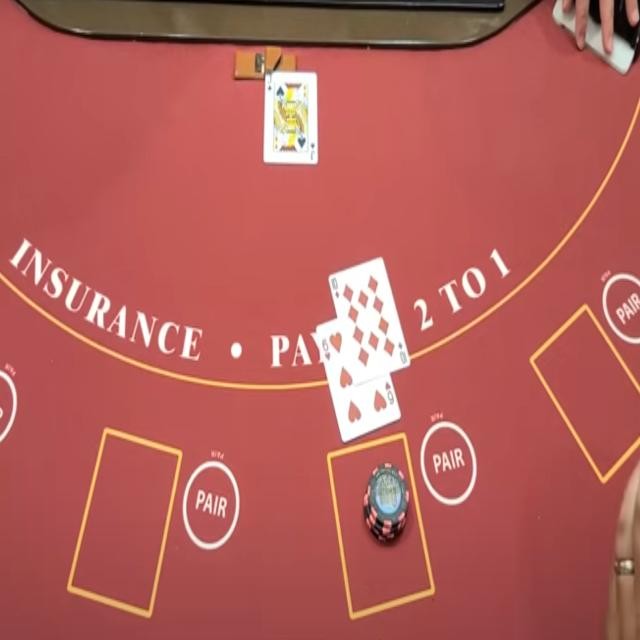10: (330, 275, 338, 292)
6: (321, 337, 329, 352)
J: (266, 71, 273, 86)
